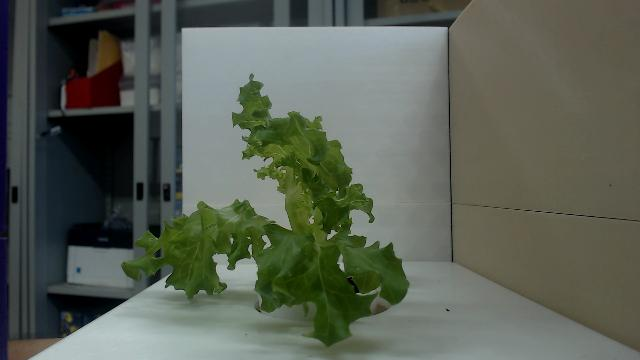Harvest Stage: (122, 72, 410, 348)
